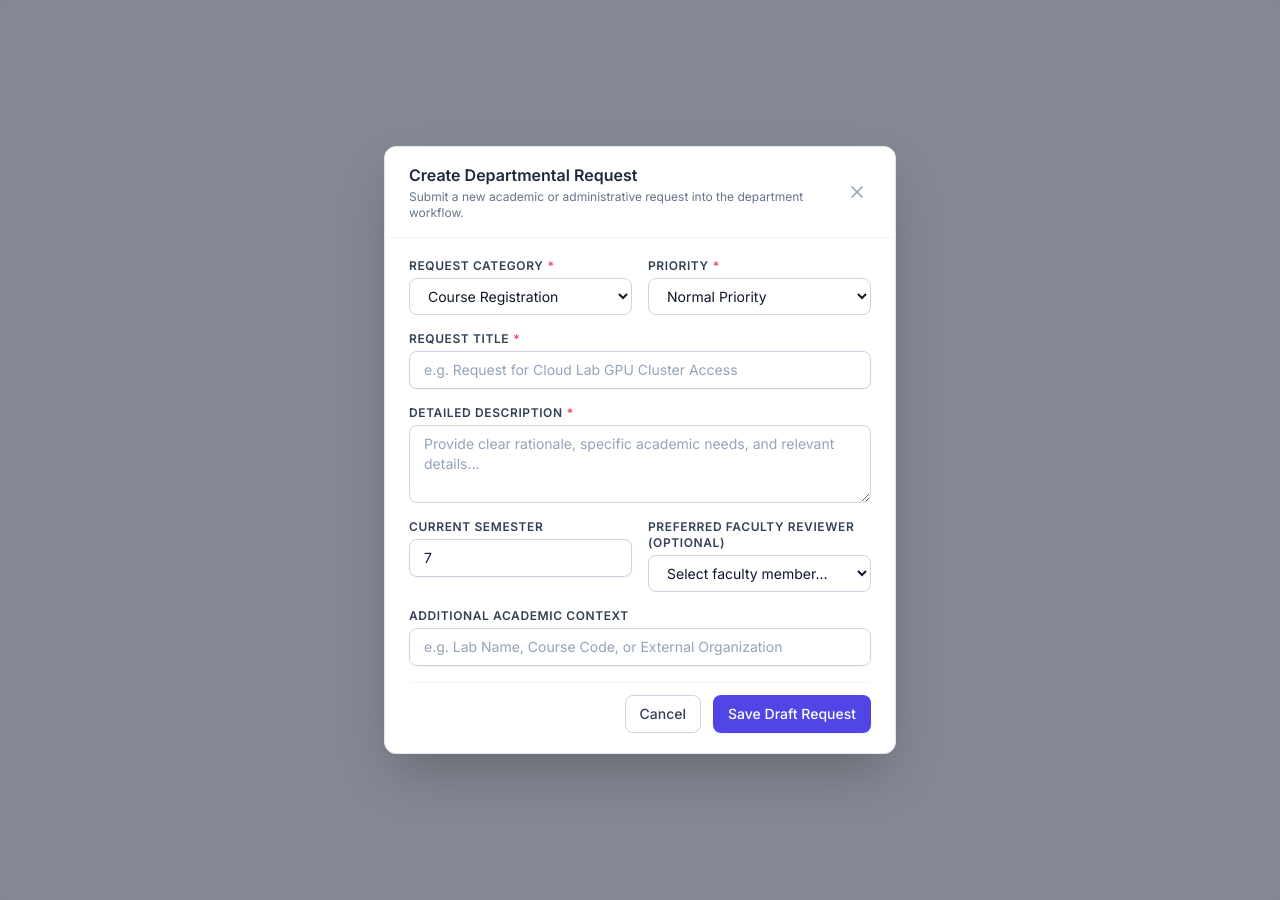
Departmental Management System — Frontend Component & Flow Tests › 6. Form Validation & Submission in Modals › validates minimum length when creating request with short values
Check: the heading "Create Departmental Request" is shown, box top-left (409, 165), bottom-right (637, 185)
Type "ab" into the field labelled "Request Title*".
click(640, 370); type("ab")  # box top-left (409, 351), bottom-right (871, 389)
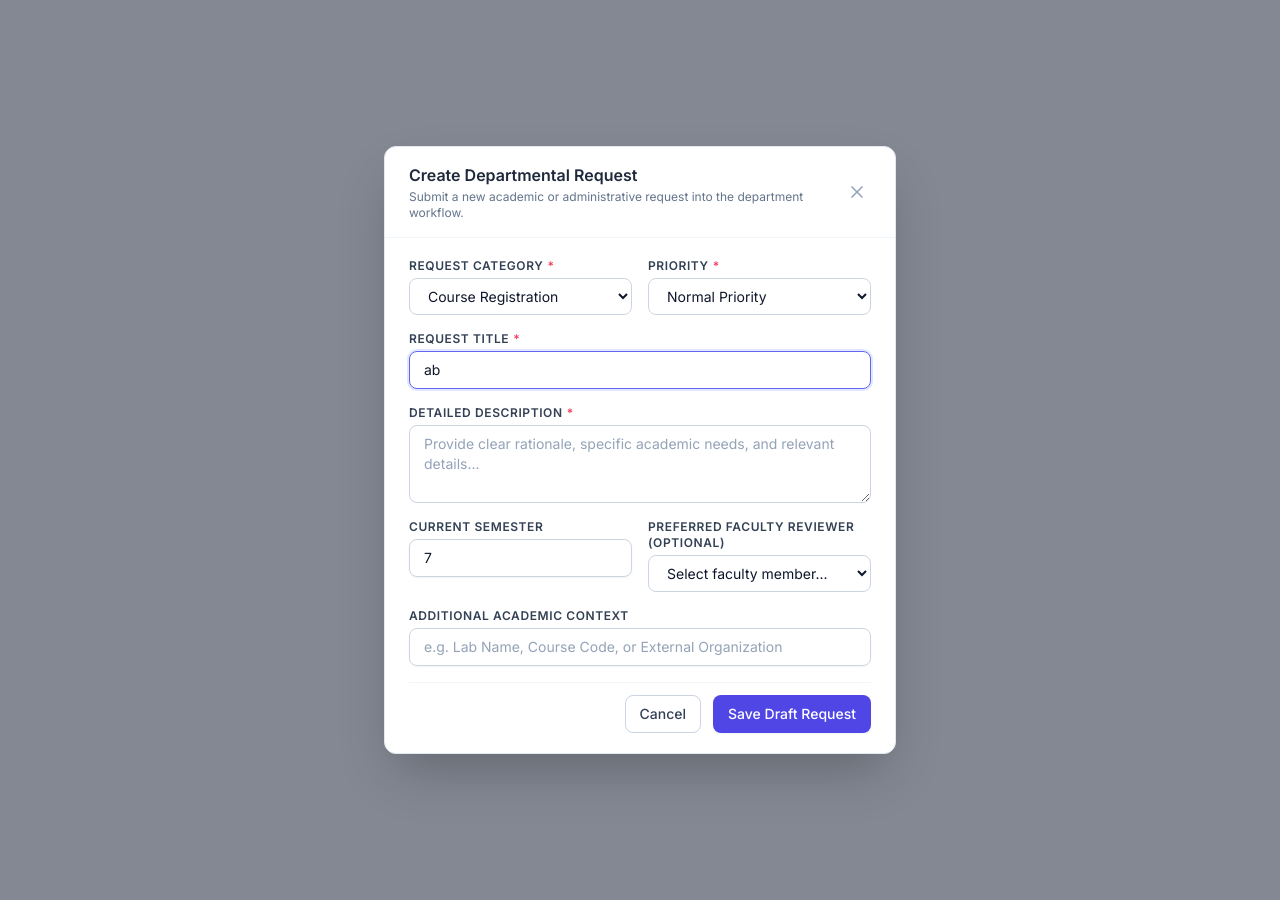
Type "A valid long description for research" into the text box labelled "Detailed Description*".
click(640, 464); type("A valid long description for research")  # box top-left (409, 425), bottom-right (871, 503)
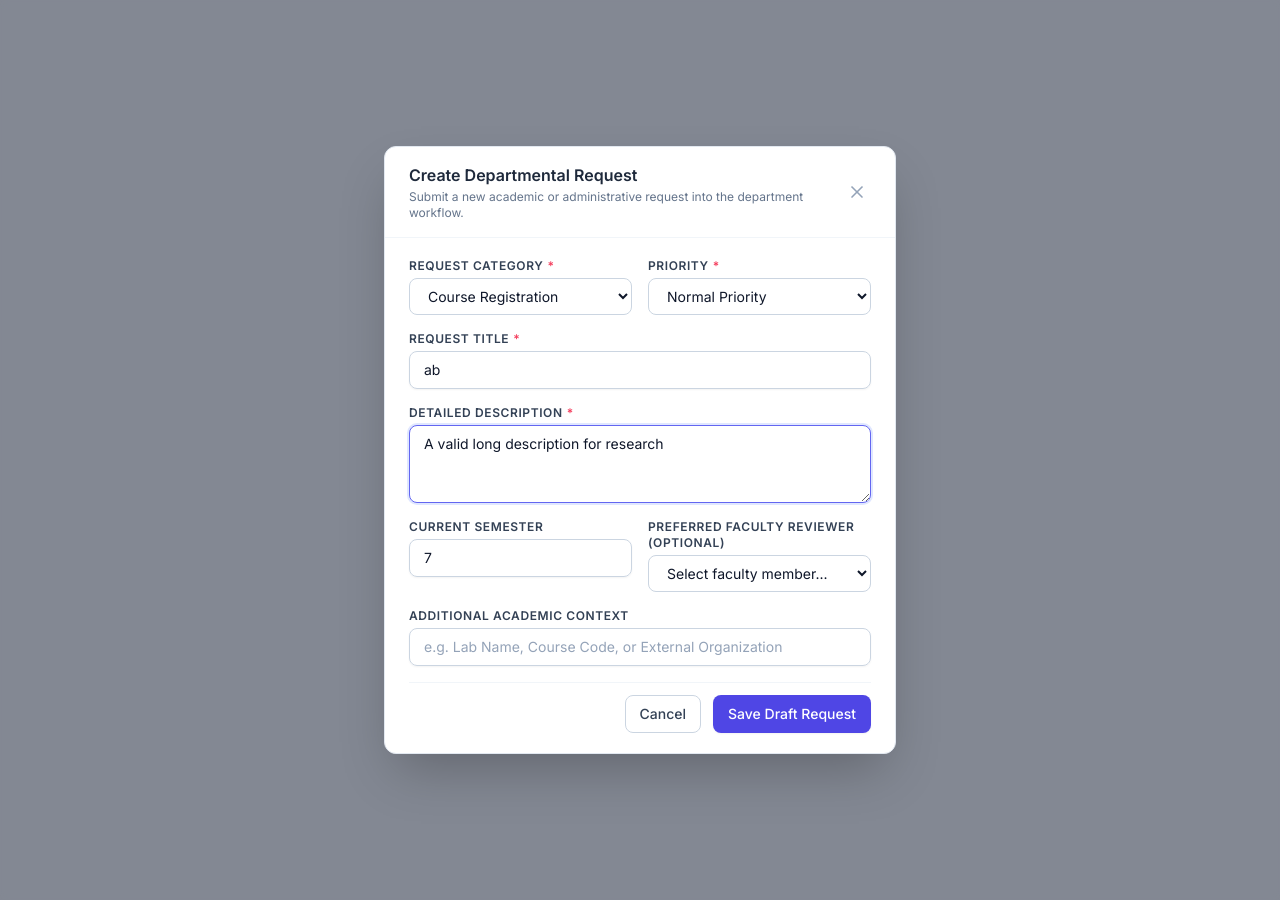
Click the button "Save Draft Request".
click(792, 714)  # box top-left (713, 695), bottom-right (871, 733)
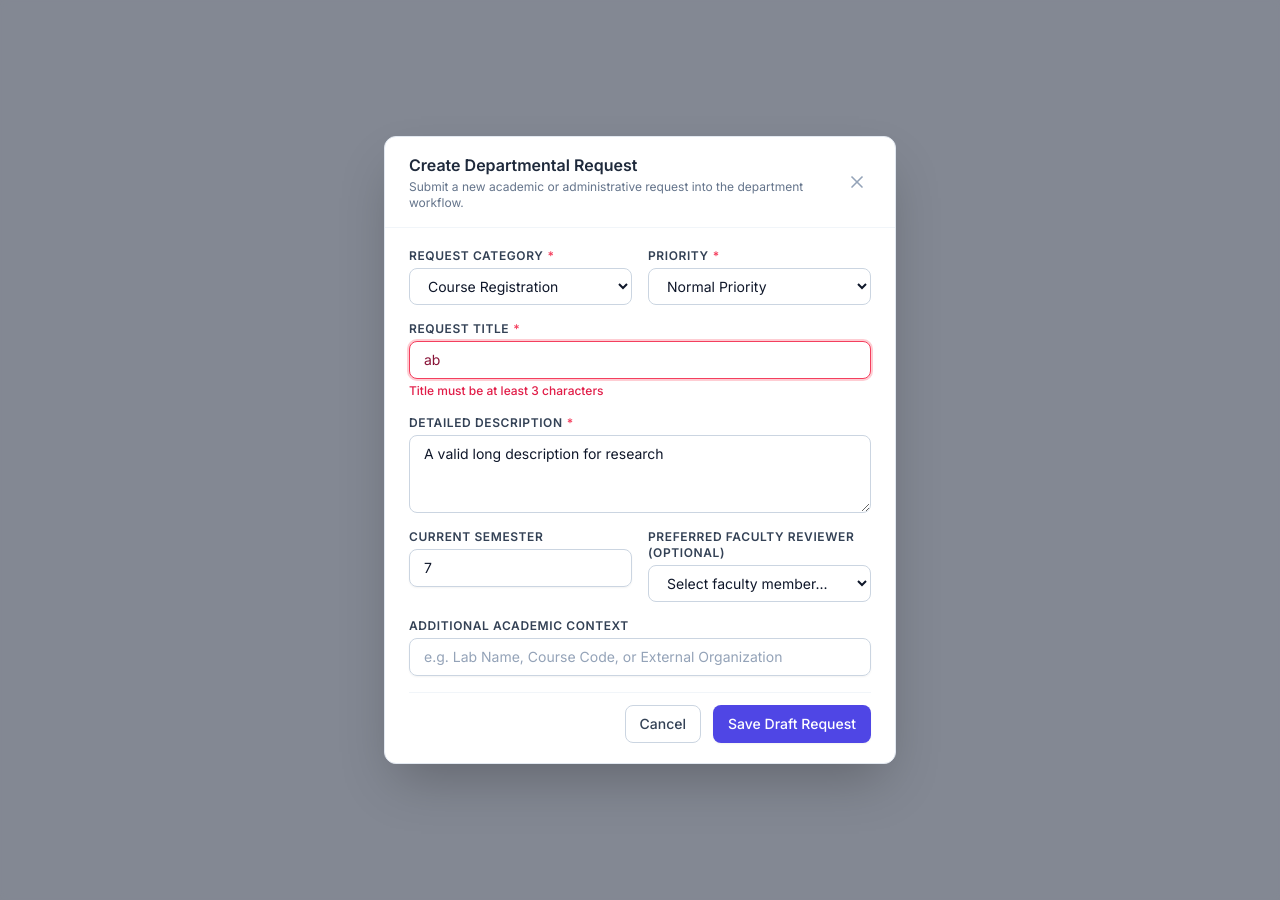
Check: the text "Title must be at least 3 characters" is shown, box top-left (409, 383), bottom-right (604, 398)
